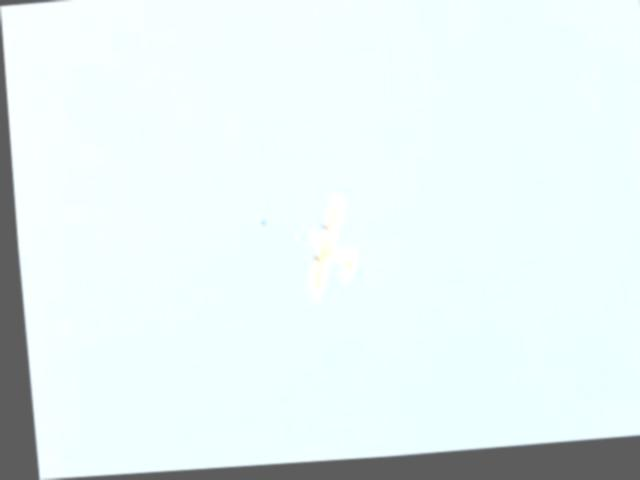uav: (297, 197, 361, 303)
